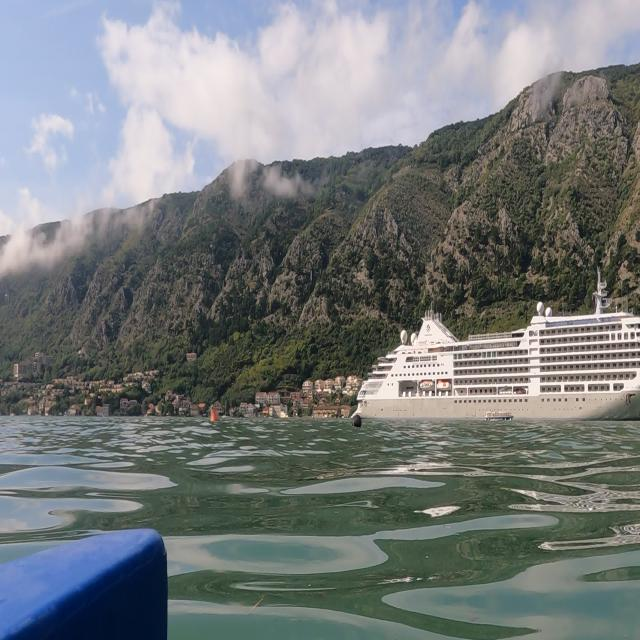boat: (350, 263, 638, 428)
buoy: (206, 401, 228, 428), (346, 409, 365, 433)
